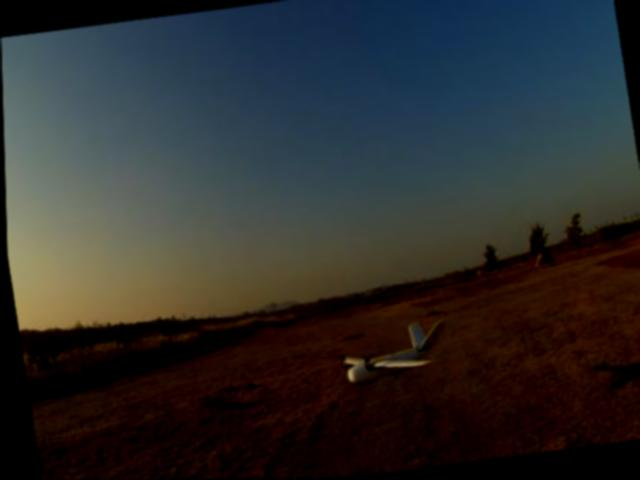uav: (324, 308, 455, 407)
